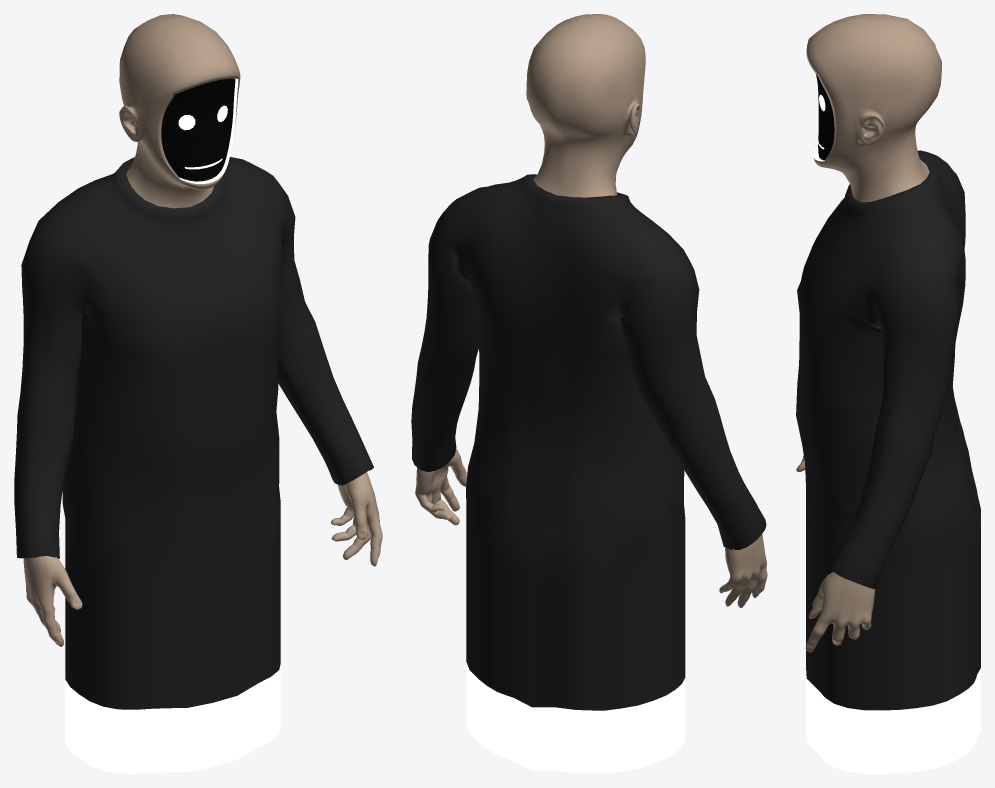
File: avatar.glb
3 renders of one model, left to right at view 1: azimuth 30°, elevation 25°; view 2: azimuth 150°, elevation 25°; view 3: azimuth 270°, elevation 25°, orthographic.
Visible parts, largest first — view 1: male_casualsuit02Mesh; view 2: male_casualsuit02Mesh; view 3: male_casualsuit02Mesh.
Boxes of the visible parts, x1,y1,x2,y2 form: male_casualsuit02Mesh: [14, 14, 382, 773]; male_casualsuit02Mesh: [411, 14, 767, 773]; male_casualsuit02Mesh: [796, 14, 980, 773].
Bounding box in the file's own units: 0.2056 × 0.4033 × 0.0948.
